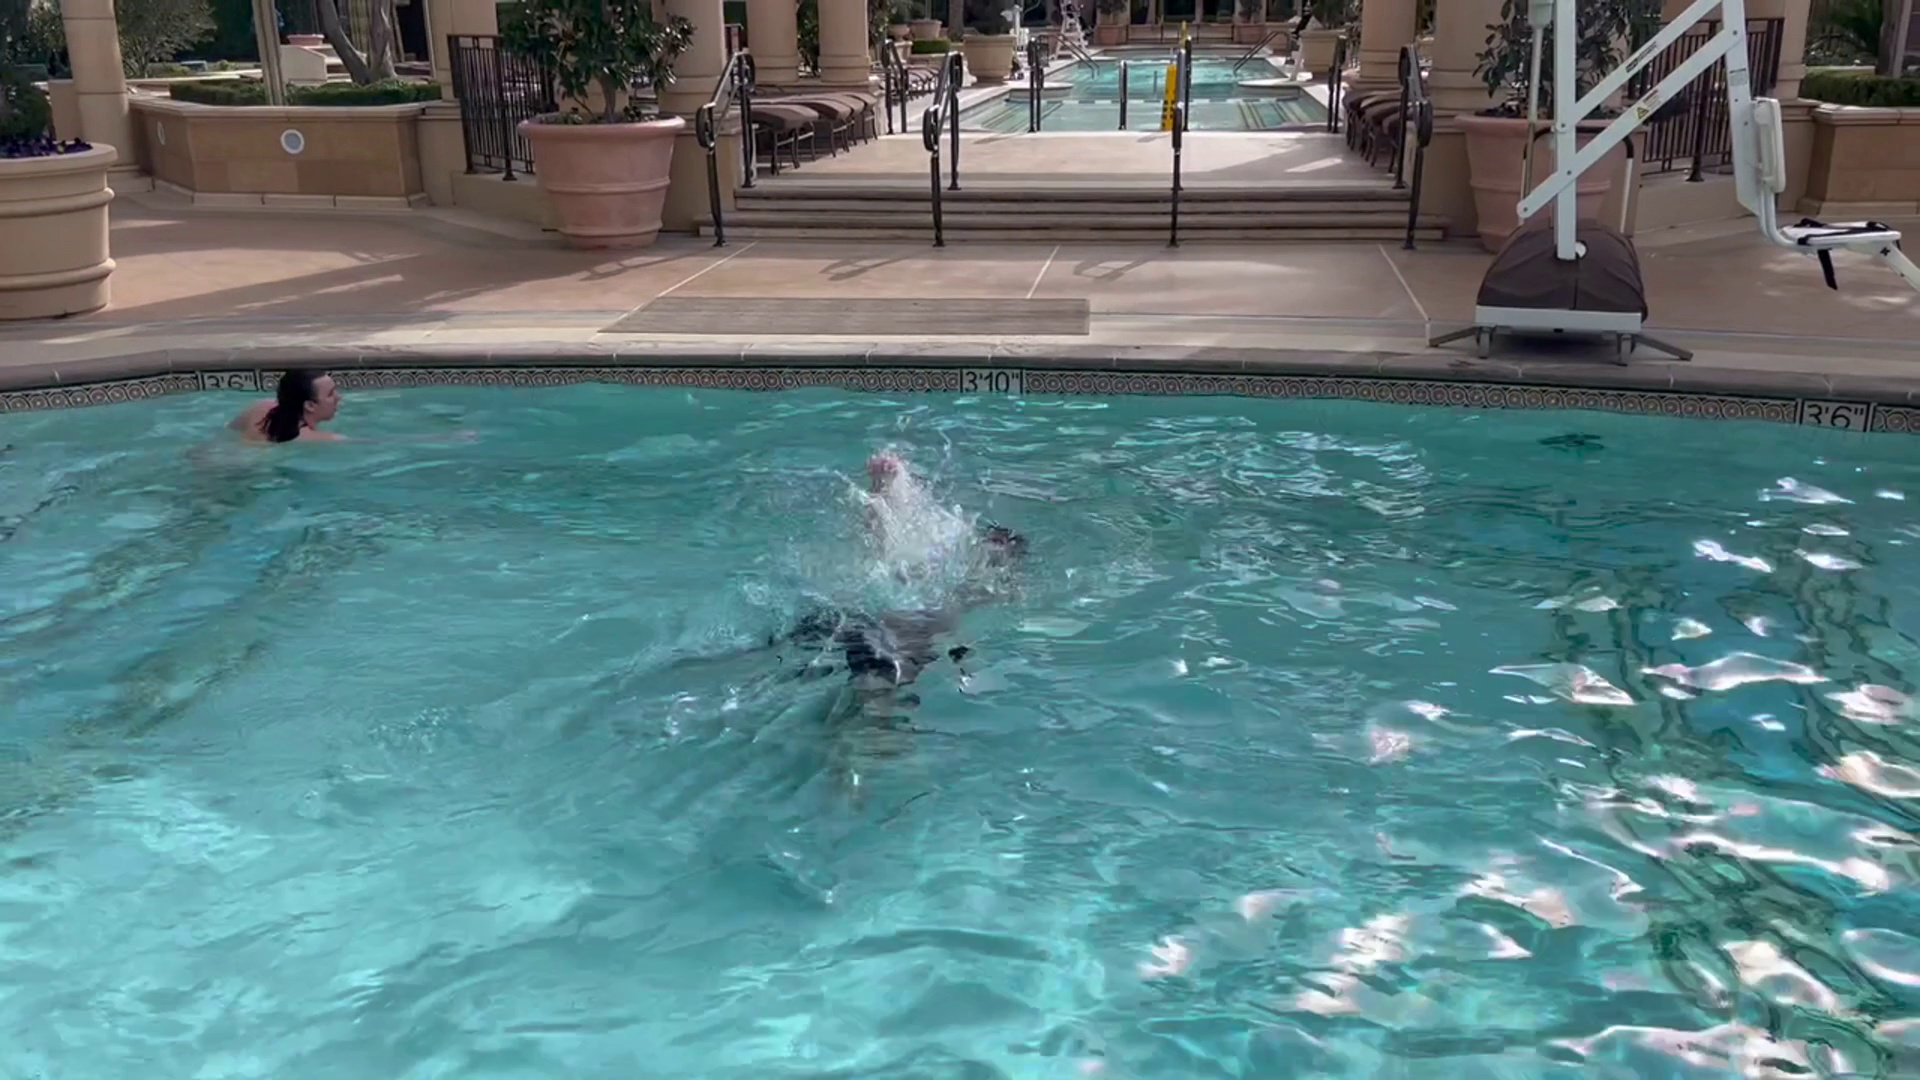danger: (786, 431, 1065, 658)
